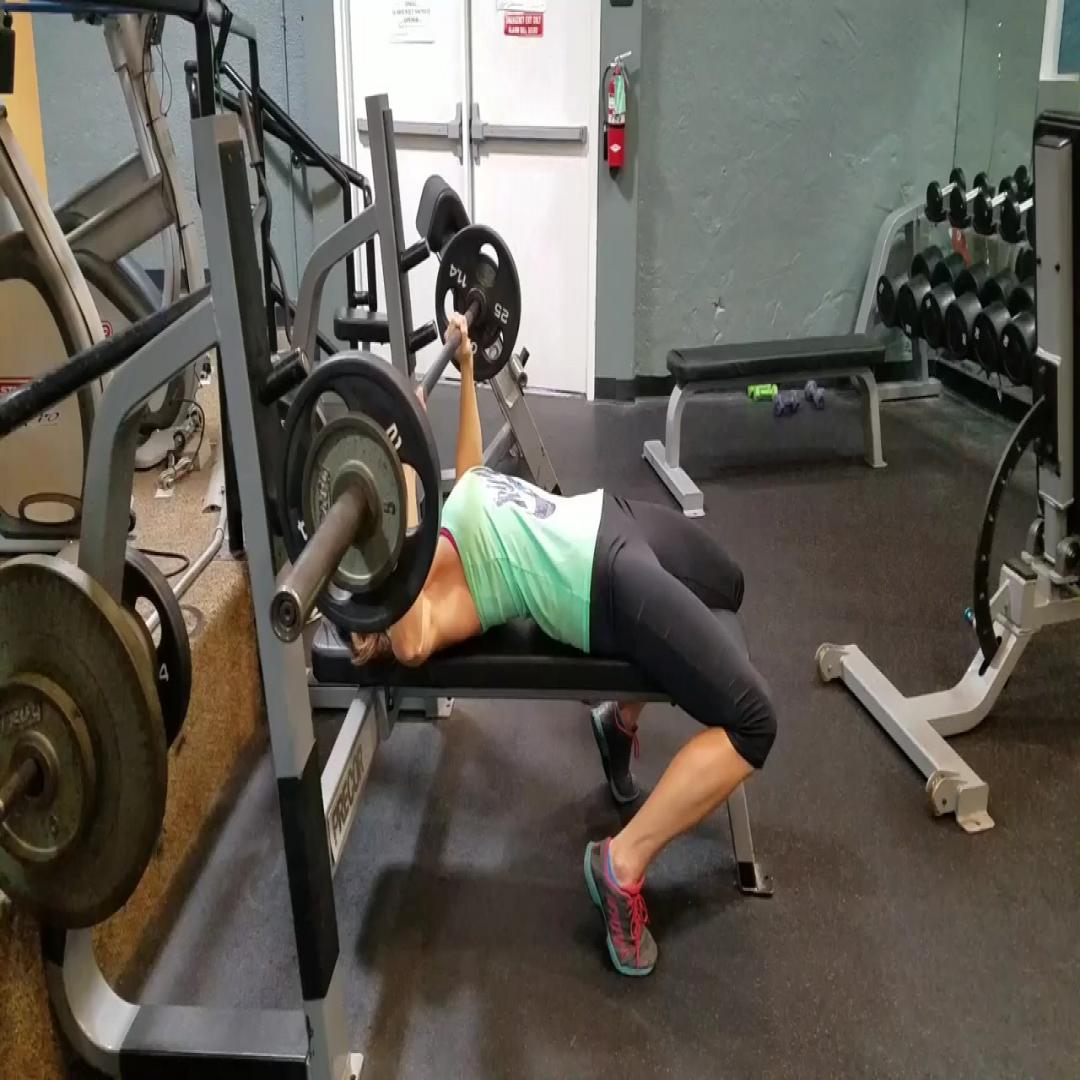Bar: (270, 588, 304, 642)
Barbell: (278, 357, 439, 636)
